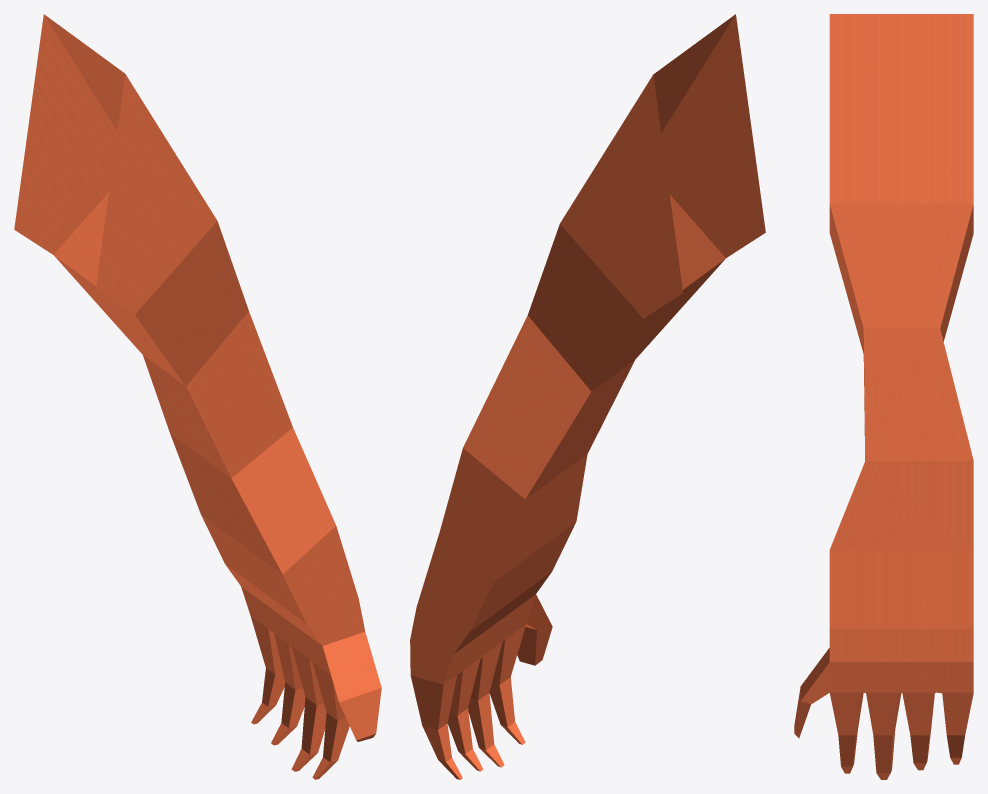
Rendered from Brazo_Izquierdo.obj.
3 renders of one model, left to right at view 1: azimuth 30°, elevation 25°; view 2: azimuth 150°, elevation 25°; view 3: azimuth 270°, elevation 25°, orthographic. The views are drawn at different scales.
Visible parts, largest first — view 1: Brazo_Izquierdo; view 2: Brazo_Izquierdo; view 3: Brazo_Izquierdo.
Part boxes in pixels (x1,y1,x2,y2): Brazo_Izquierdo: (14, 14, 381, 779); Brazo_Izquierdo: (410, 14, 765, 779); Brazo_Izquierdo: (794, 14, 973, 779).
Size of the model in its own units: 0.3847 by 1.05 by 0.2513.
Materials: 1 (1 with a texture image).
